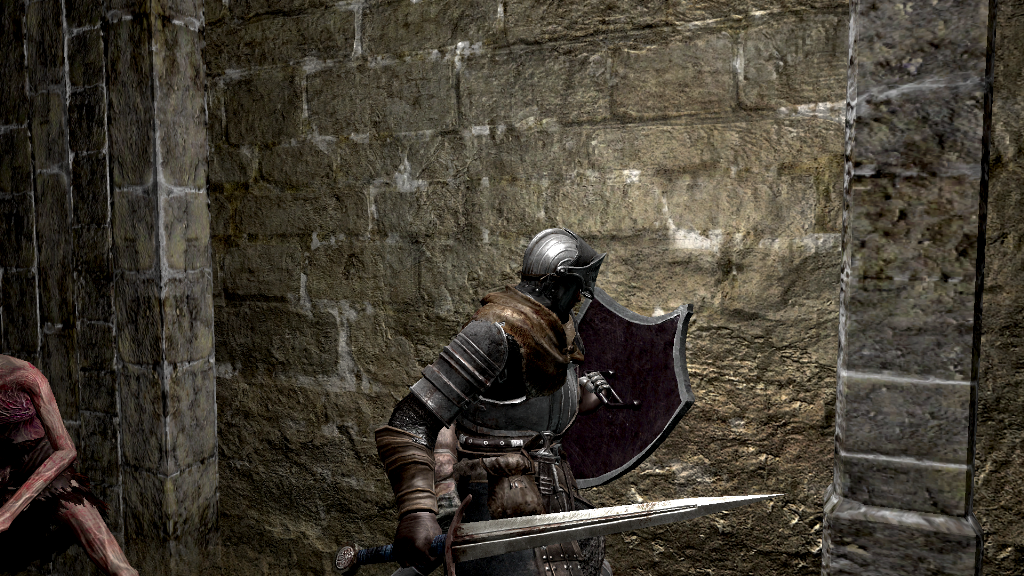hollow: (1, 352, 143, 576)
player: (334, 227, 785, 576)
